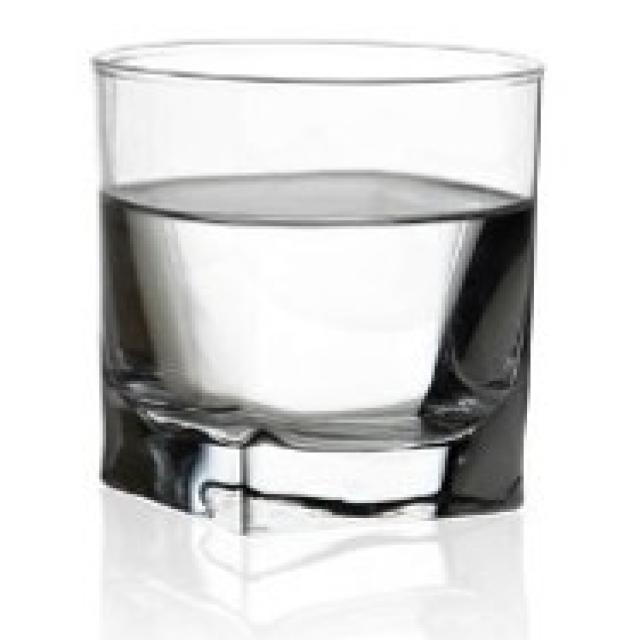electronic: (92, 38, 544, 541)
